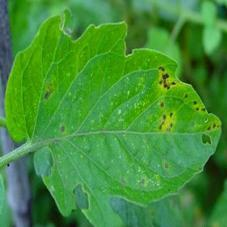Bacterial Spot: (0, 5, 224, 227)
